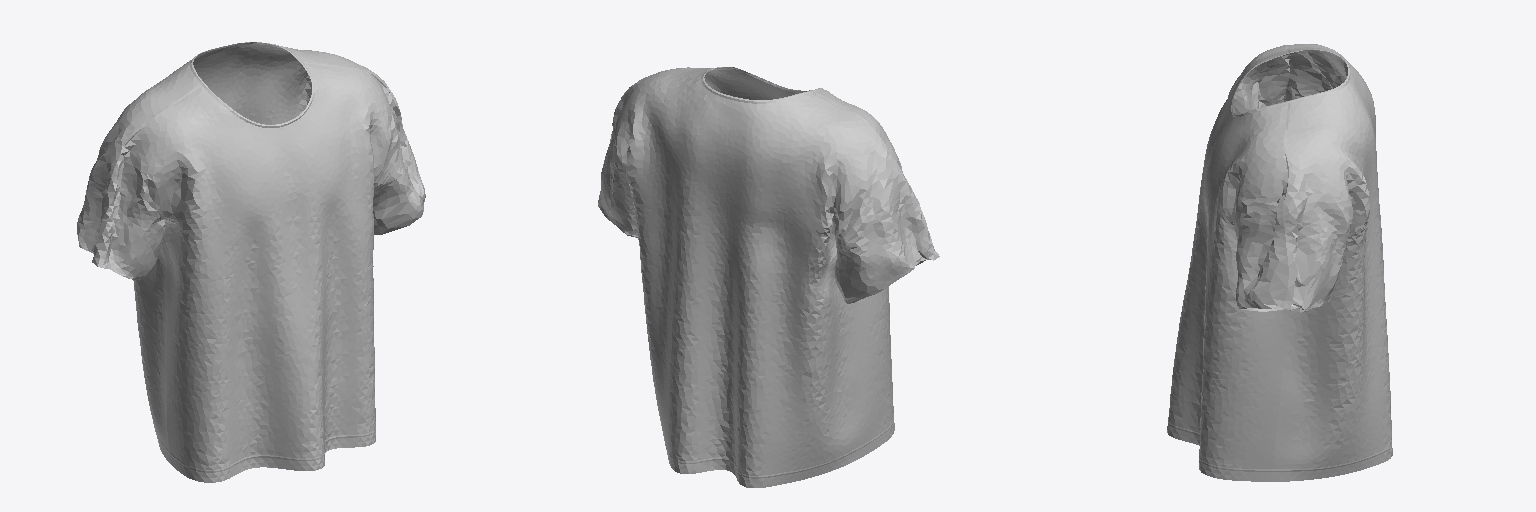
The model's file is Large_Tall.obj.
3 views of the same model, side by side, from view 1: azimuth 30°, elevation 25°; view 2: azimuth 150°, elevation 25°; view 3: azimuth 270°, elevation 25° (orthographic).
Visible parts, largest first — view 1: 短袖.002; view 2: 短袖.002; view 3: 短袖.002.
Part boxes in pixels (bbox=[...]): 短袖.002: bbox=[77, 42, 425, 482]; 短袖.002: bbox=[598, 67, 939, 487]; 短袖.002: bbox=[1167, 44, 1392, 481].
Size of the model in its own units: 0.65 by 0.6962 by 0.3849.